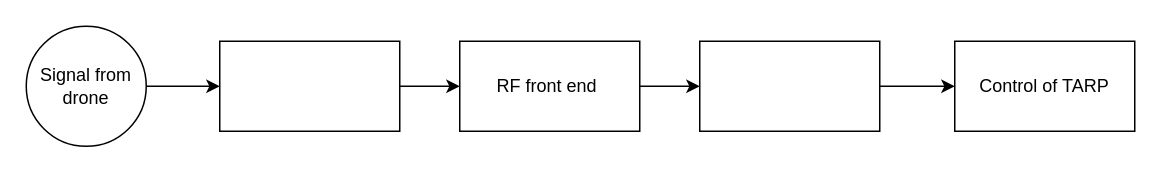
The diagram is 1161 pixels wide and 173 high, and some of its shapes have lost their labels. Here are the shapes that lost their labels. From the top down, the centre of each, then its label:
point (309, 85): Antenna
point (789, 85): Direction of arrival algorith
